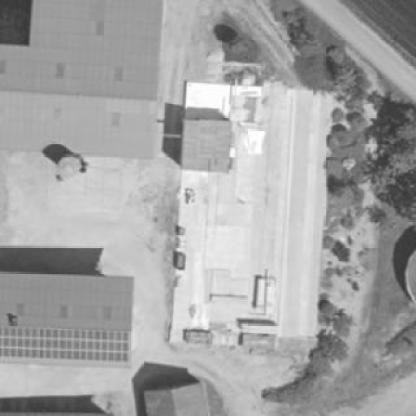solar-pv-panel: (0, 327, 129, 362)
